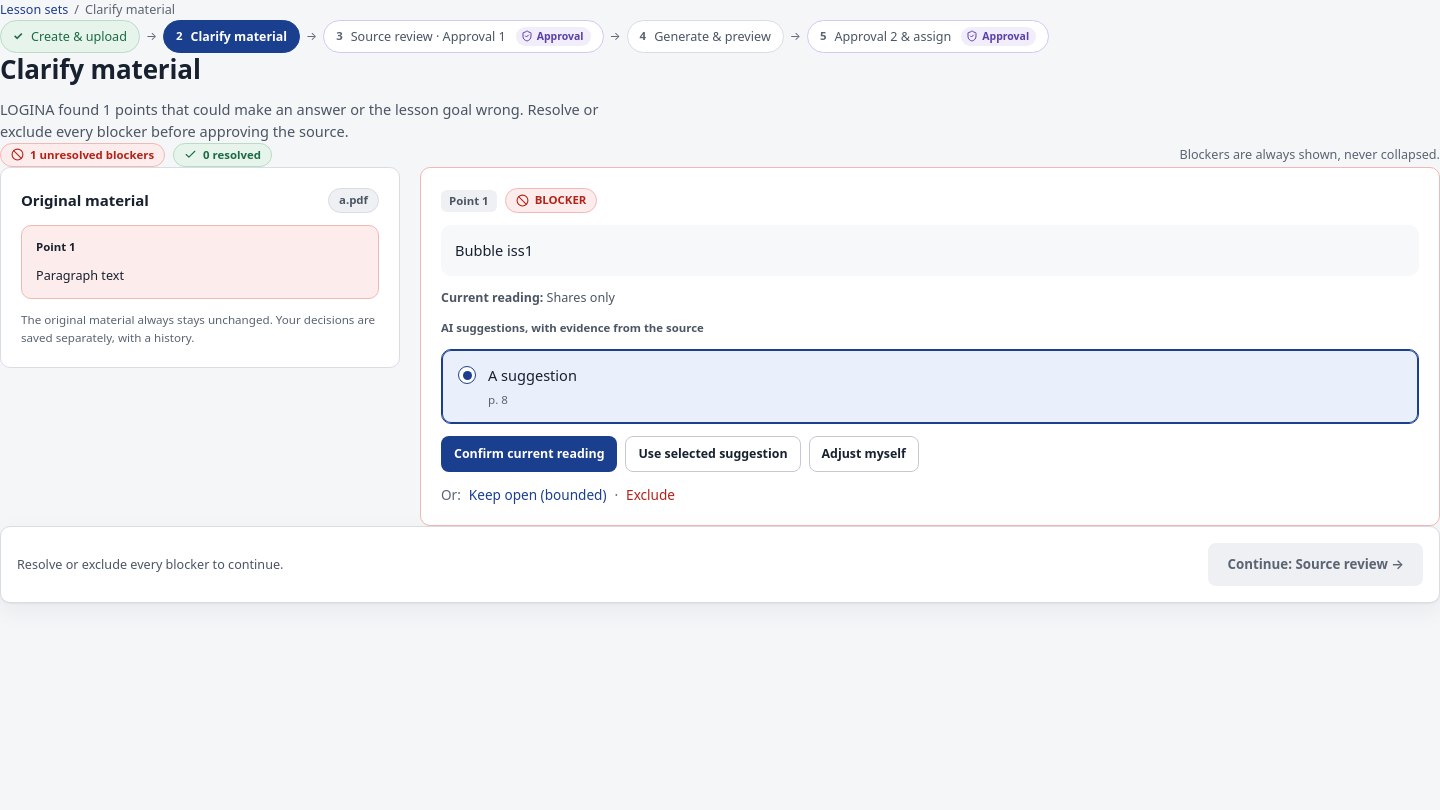
it: T3 and T4 › keep open requires bounds and a reason
The image size is (1440, 810).
Click the button "Keep open (bounded)" at point(538, 495), box [469,484,606,505]
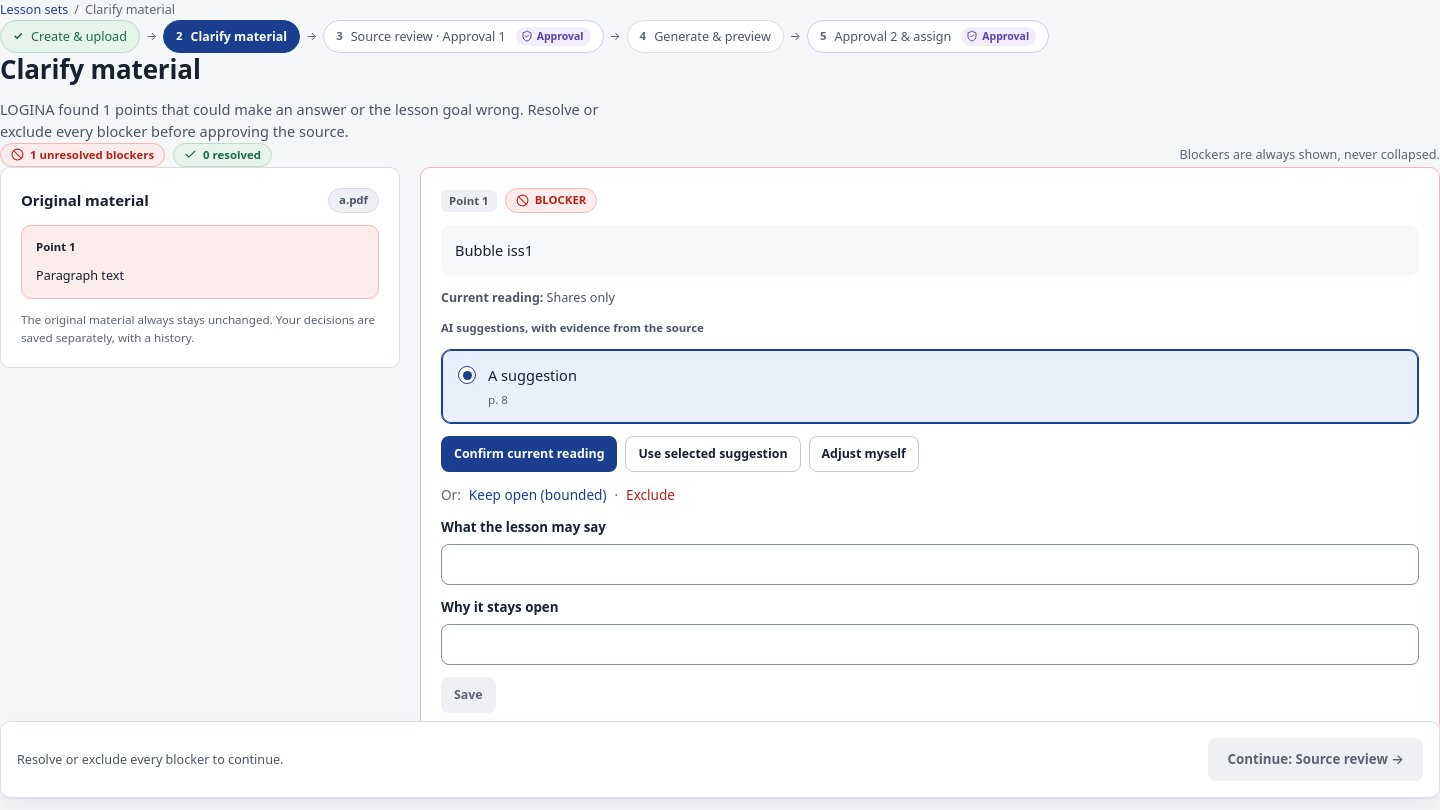
Expected: the button "Save" is disabled, [441,677,496,713]
Type "Shares" into the field labelled "What the lesson may say" at point(930, 565), box [441,544,1419,585]
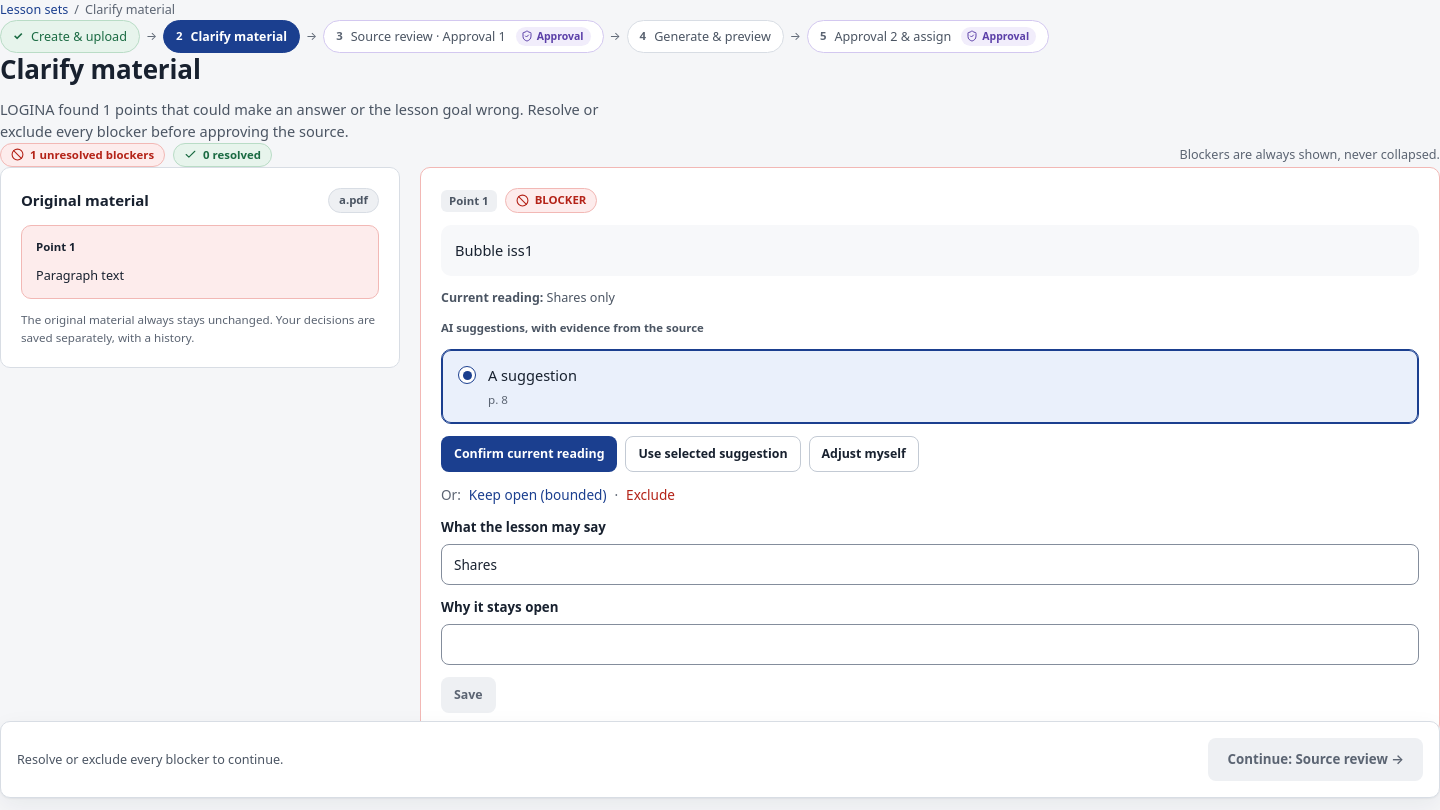
Expected: the button "Save" is disabled, [441,677,496,713]
Type "No totals" into the field labelled "Why it stays open" at point(930, 645), box [441,624,1419,665]
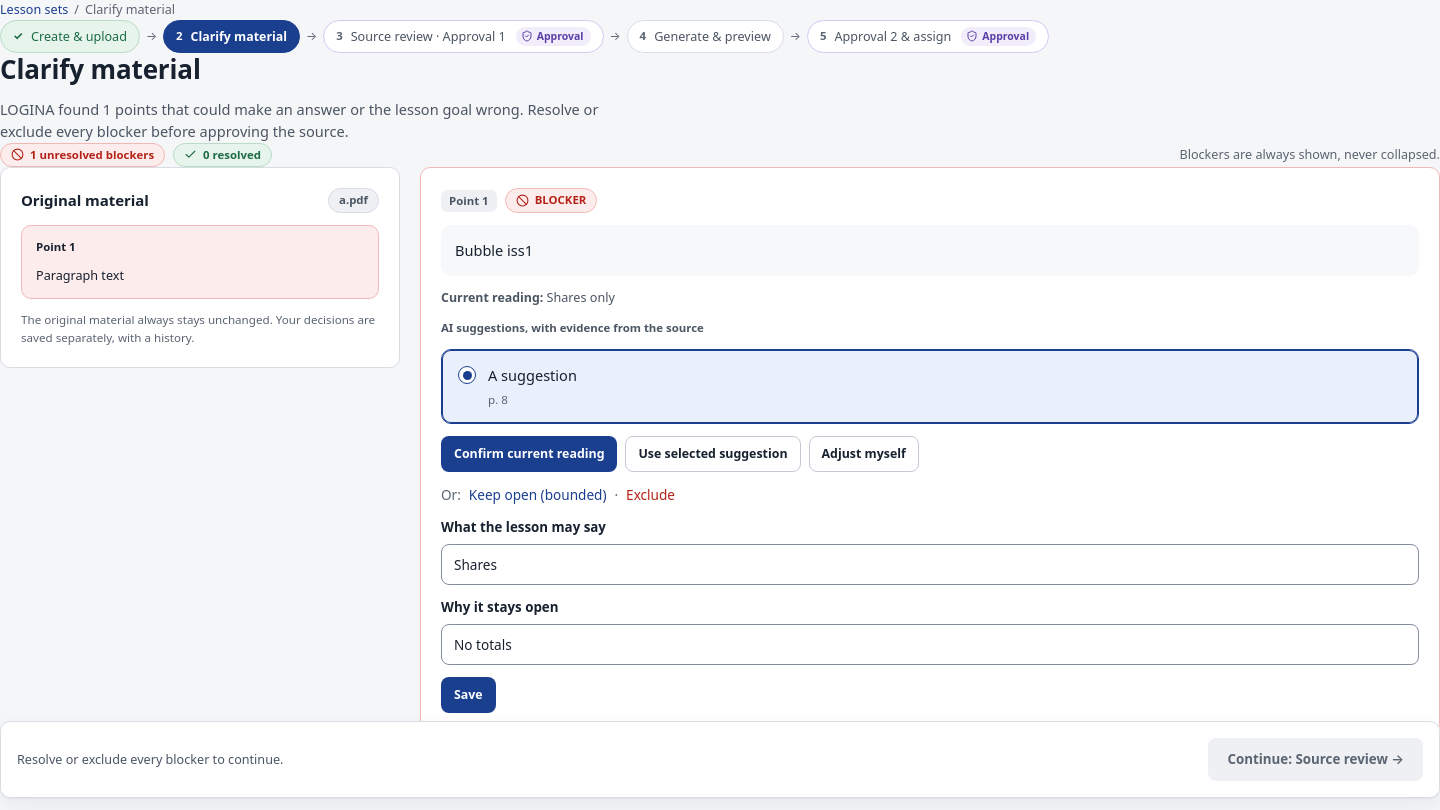
Expected: the button "Save" is enabled, [441,677,496,713]
